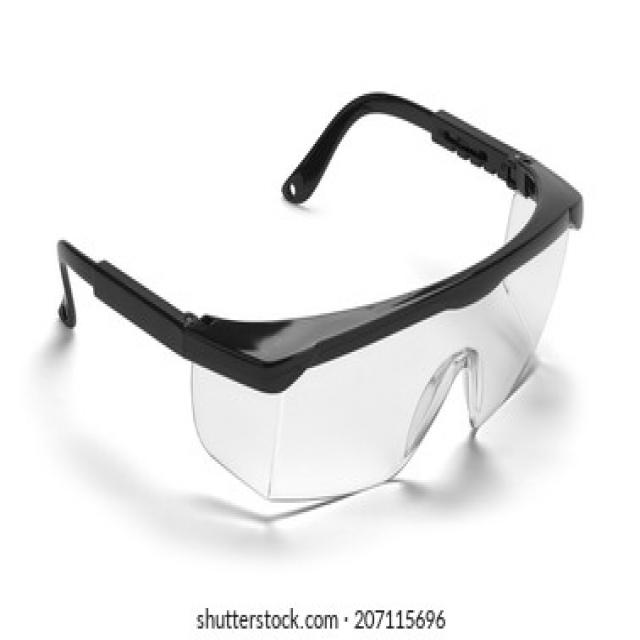Protective Glasses: (32, 72, 598, 528)
